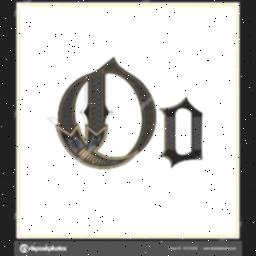o: (50, 46, 160, 174), (156, 94, 212, 174)
